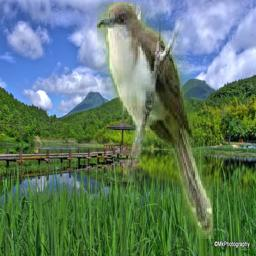Cuckoo: (97, 3, 213, 240)
